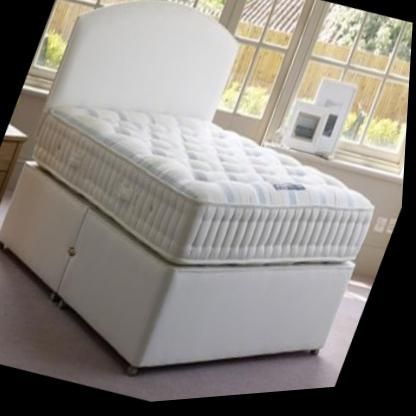Bed: (1, 3, 378, 377)
Nightstand: (0, 124, 30, 219)
